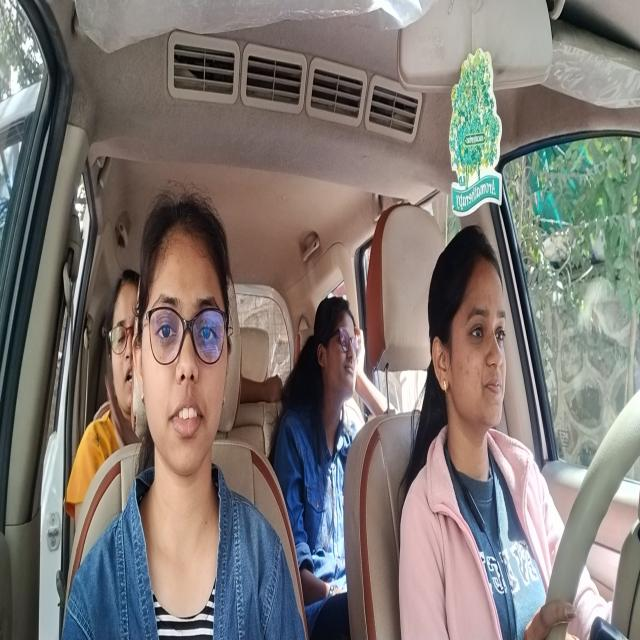person: (134, 184, 237, 470), (428, 230, 514, 446), (314, 276, 368, 421), (110, 266, 141, 437)
